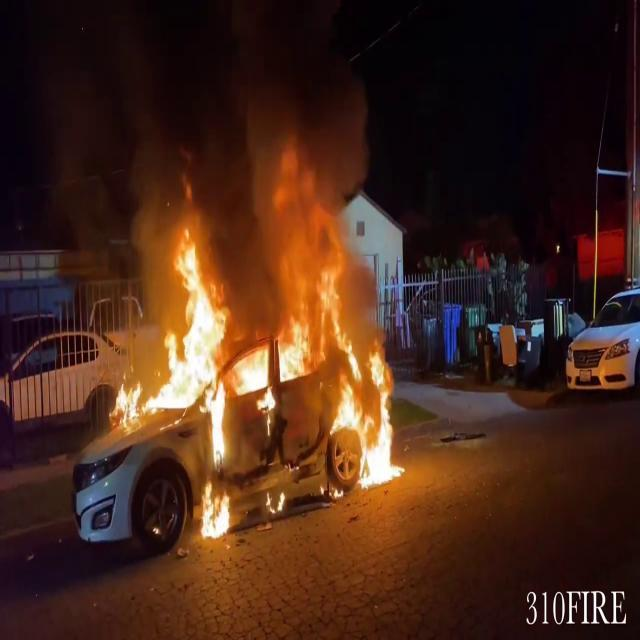Fire: (111, 196, 402, 527)
Smoke: (30, 0, 378, 277)
